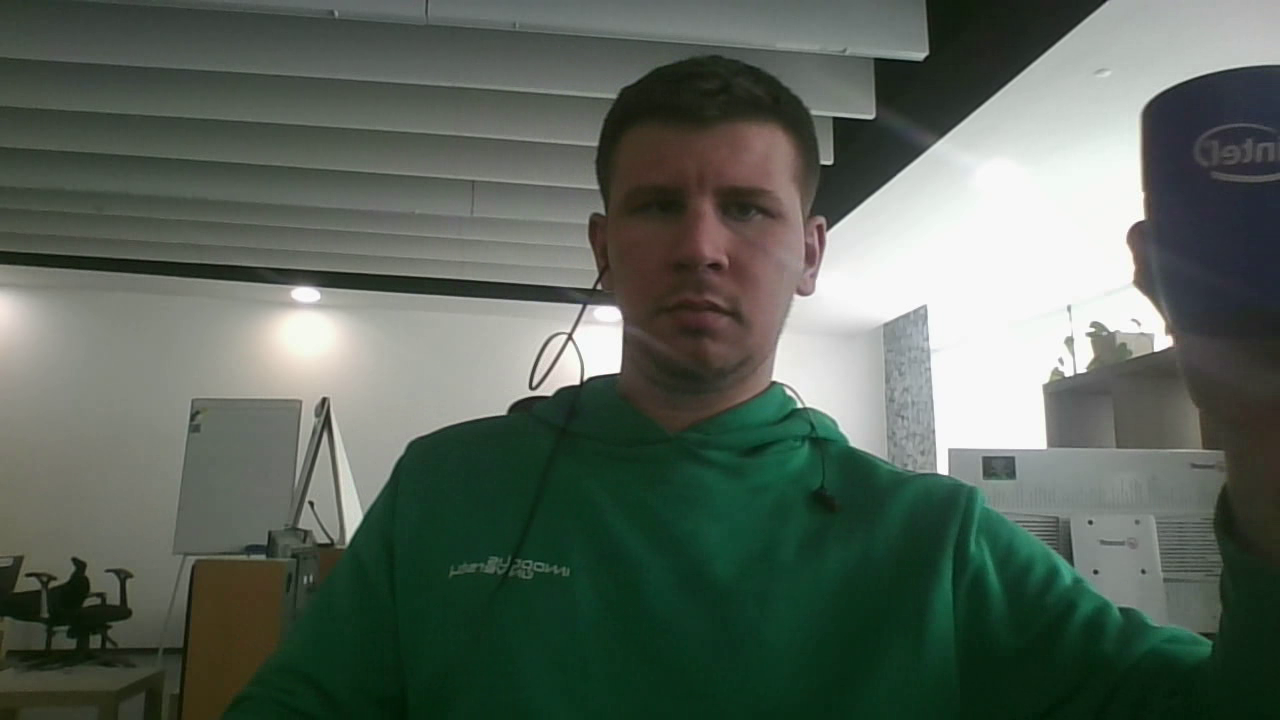cup: (1140, 62, 1280, 334)
